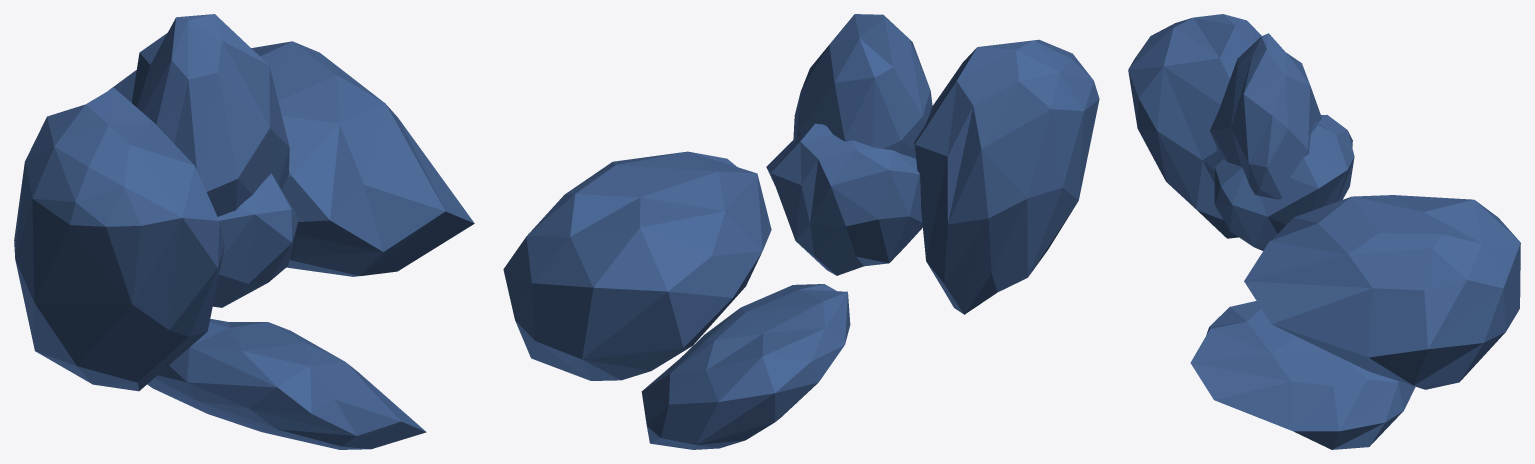
The model's file is tree-winter-leaves-6-050.glb.
3 views of the same model, side by side, from view 1: azimuth 30°, elevation 25°; view 2: azimuth 150°, elevation 25°; view 3: azimuth 270°, elevation 25° (orthographic). The views are drawn at different scales.
Visible parts, largest first — view 1: TREE 6.005_204; view 2: TREE 6.005_204; view 3: TREE 6.005_204.
Boxes of the visible parts, x1,y1,x2,y2 form: TREE 6.005_204: (14, 14, 474, 449); TREE 6.005_204: (503, 14, 1099, 449); TREE 6.005_204: (1128, 14, 1520, 449).
Bounding box in the file's own units: 0.9337 × 0.8573 × 0.8774.
